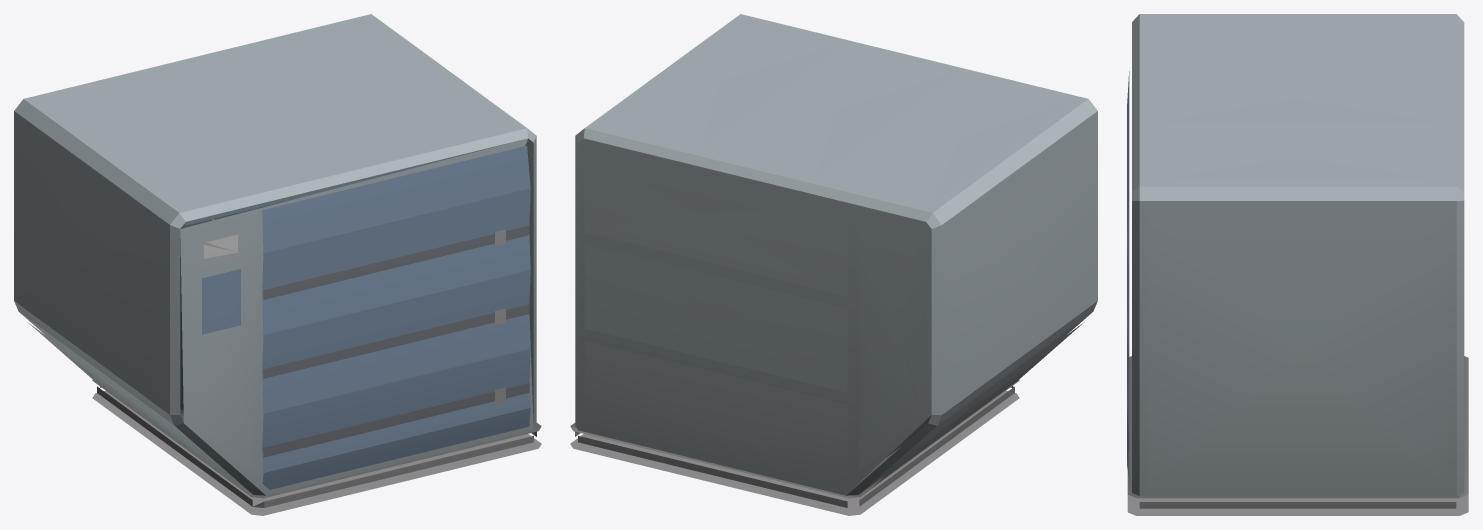
Rendered from uld.lod.glb.
The picture shows the model from 3 angles, left to right: view 1: azimuth 30°, elevation 25°; view 2: azimuth 150°, elevation 25°; view 3: azimuth 270°, elevation 25°; orthographic projection.
Parts seen in each view (by area): view 1: uld; view 2: uld; view 3: uld.
Boxes of the visible parts, bbox=[...] form: uld: bbox=[14, 14, 541, 515]; uld: bbox=[570, 14, 1097, 515]; uld: bbox=[1127, 14, 1468, 515].
Size of the model in its own units: 2 by 1.64 by 1.57.
